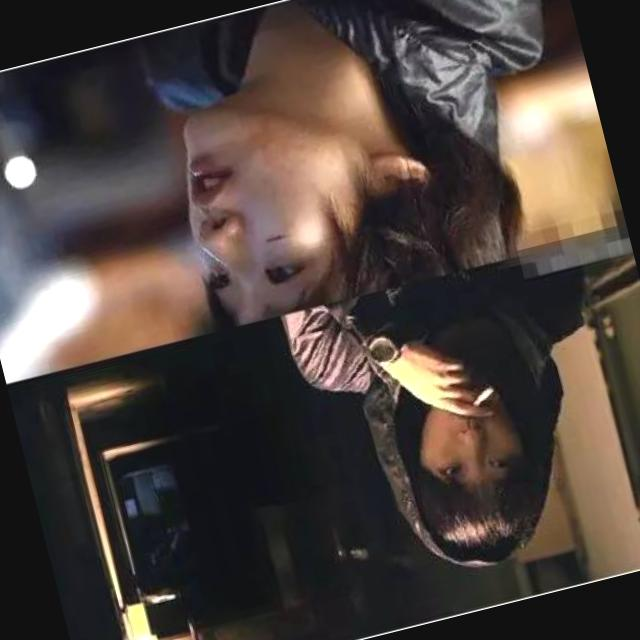smoke: (466, 370, 504, 410)
